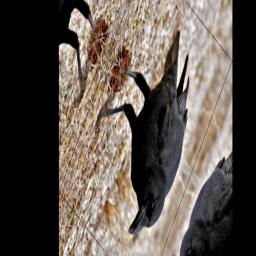Crow: (79, 0, 213, 256)
